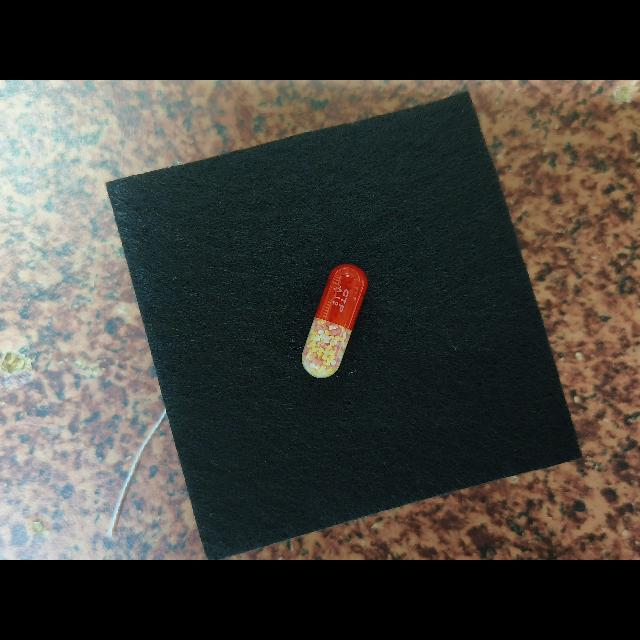Intact Capsule: (302, 264, 368, 378)
